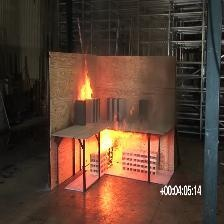fire: (86, 119, 146, 164), (67, 55, 107, 110)
